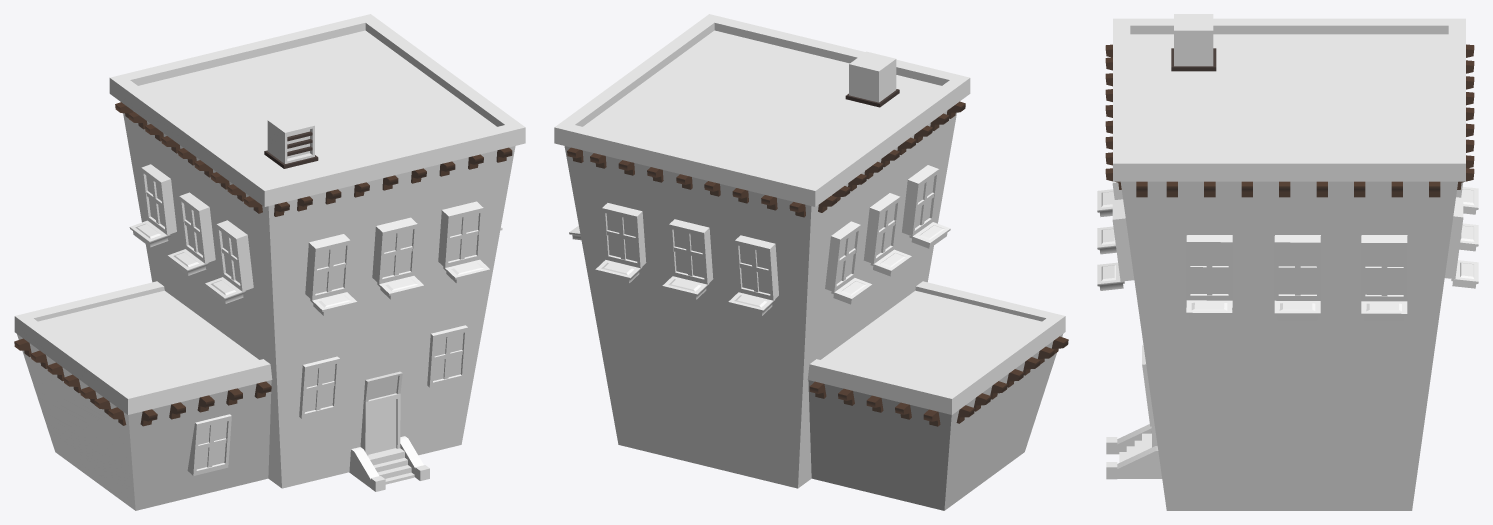
3 views of the same model, side by side, from view 1: azimuth 30°, elevation 25°; view 2: azimuth 150°, elevation 25°; view 3: azimuth 270°, elevation 25° (orthographic). The views are drawn at different scales.
Parts seen in each view (by area): view 1: pCube35, pCube29, kherki, deco, door1, pCube28, pCube36; view 2: pCube35, pCube29, kherki, deco, pCube36; view 3: pCube35, pCube29, kherki, deco, pCube36, pCube28.
Boxes of the visible parts, x1=… form: pCube35: x1=17, y1=111, x2=515, y2=510; pCube29: x1=14, y1=14, x2=525, y2=414; kherki: x1=129, y1=164, x2=502, y2=475; deco: x1=14, y1=102, x2=512, y2=426; door1: x1=360, y1=371, x2=402, y2=455; pCube28: x1=349, y1=436, x2=429, y2=491; pCube36: x1=264, y1=113, x2=318, y2=168; pCube35: x1=564, y1=111, x2=1062, y2=510; pCube29: x1=554, y1=14, x2=1065, y2=414; kherki: x1=569, y1=165, x2=950, y2=315; deco: x1=567, y1=101, x2=1068, y2=426; pCube36: x1=845, y1=51, x2=899, y2=107; pCube35: x1=1120, y1=181, x2=1457, y2=510; pCube29: x1=1113, y1=18, x2=1465, y2=181; kherki: x1=1097, y1=134, x2=1478, y2=426; deco: x1=1105, y1=44, x2=1474, y2=197; pCube36: x1=1171, y1=14, x2=1216, y2=71; pCube28: x1=1106, y1=424, x2=1162, y2=479.
Bounding box in the file's own units: 0.5569 × 0.473 × 0.407.
